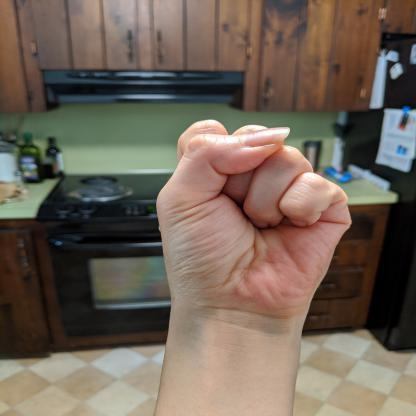S: (150, 115, 356, 322)
